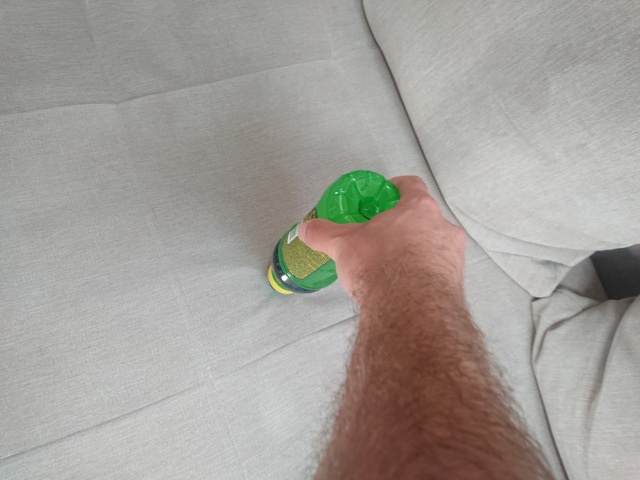Vindi Iso Sport Lemon-Grapefruit 500mL: (264, 167, 411, 297)
